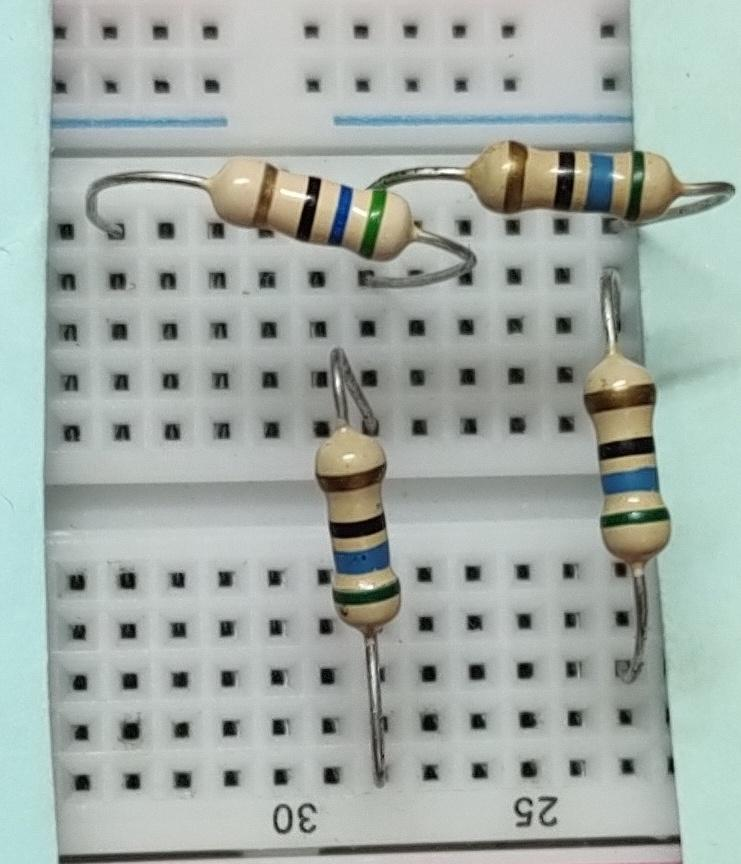resistor: (282, 419, 430, 650), (197, 147, 421, 272), (457, 122, 714, 226), (572, 342, 682, 573)
